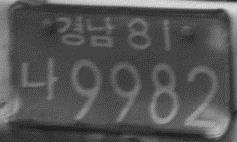1: (159, 18, 176, 52)
2: (183, 63, 221, 130)
8: (146, 61, 181, 125), (126, 15, 153, 51)
9: (108, 59, 143, 125), (69, 56, 102, 122)
경남_O: (54, 15, 116, 47)
나: (18, 55, 60, 102)
